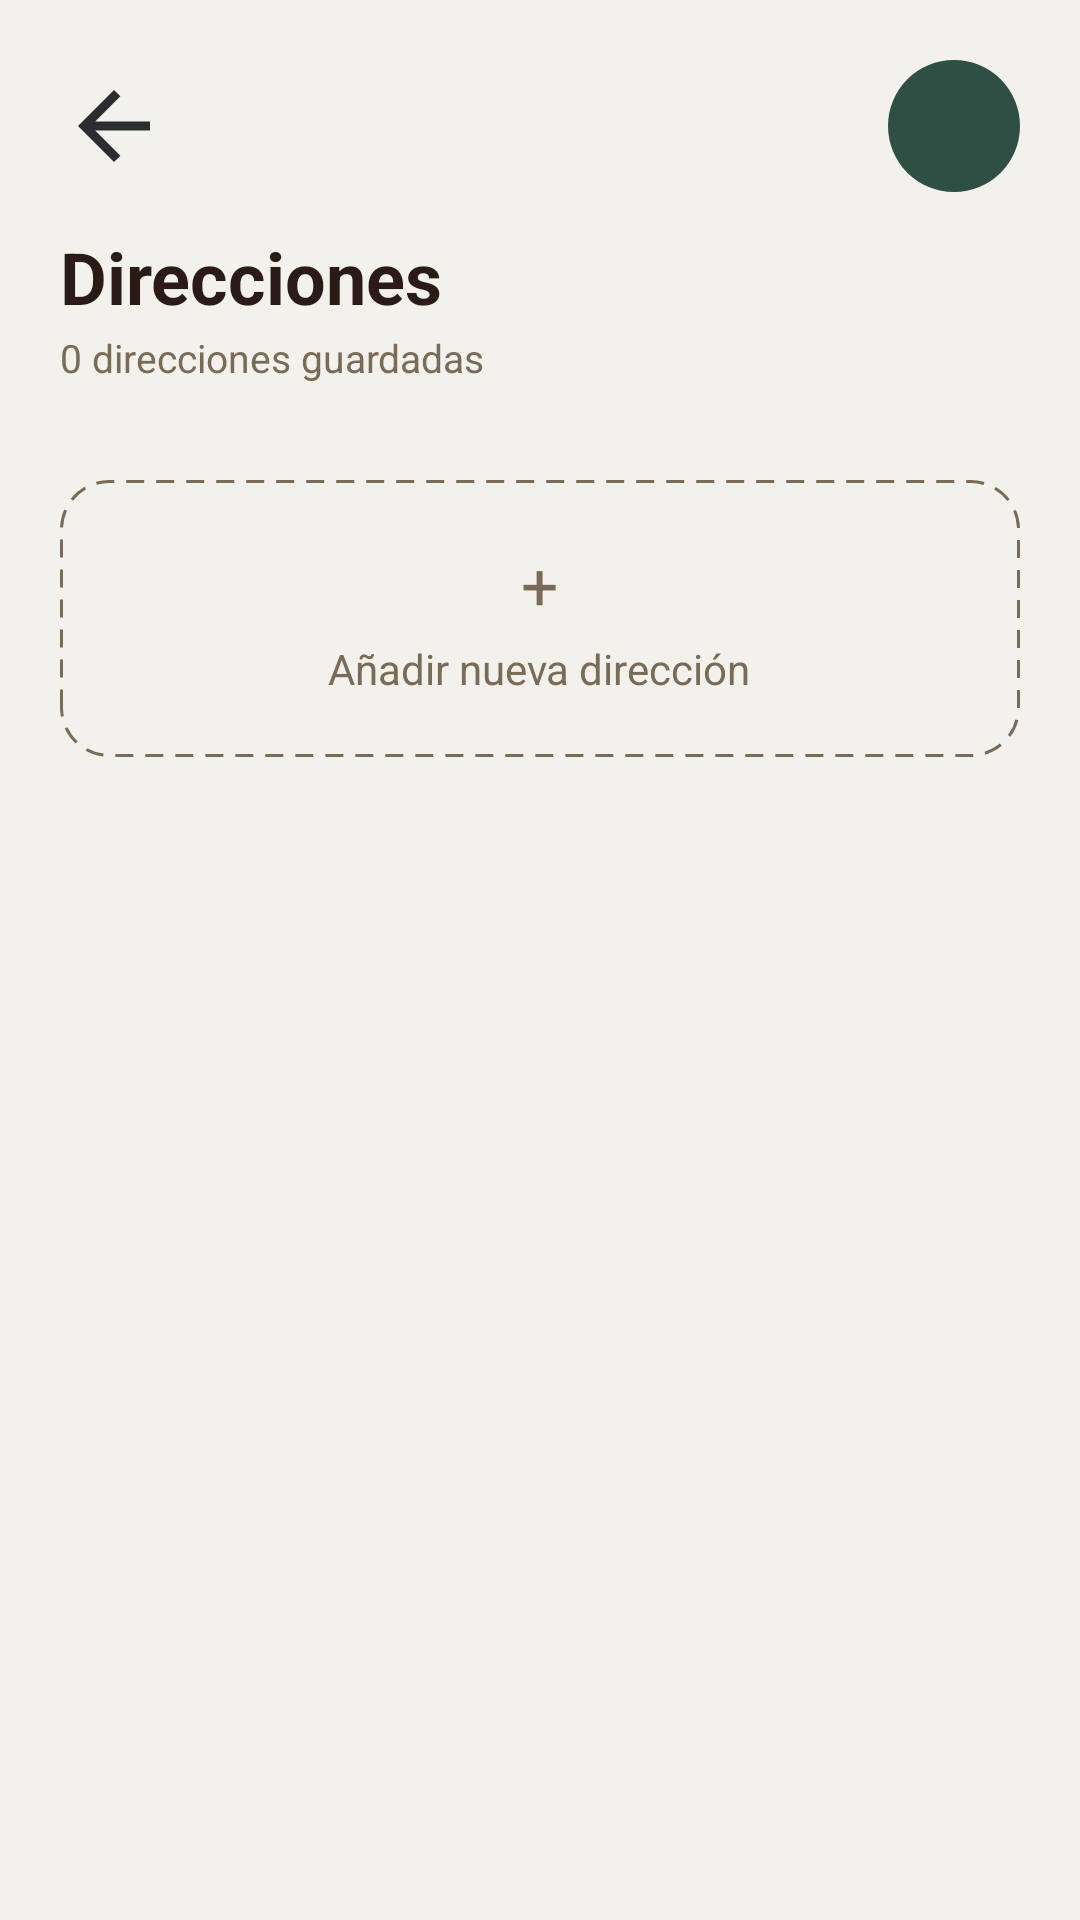

Locate icon controls on the screen. Image size 1080w x 1920h, boxes as Rect(x1, y1, x2, y2).
Volver: Rect(78, 90, 150, 162)
